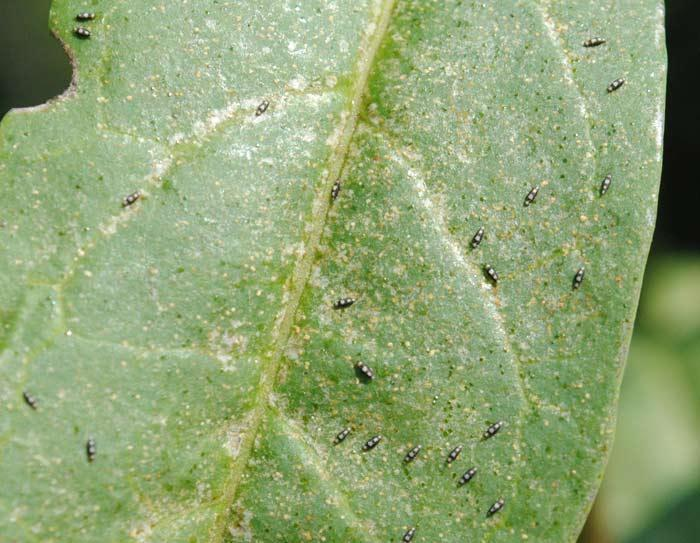tiny_pests: (476, 414, 509, 449), (452, 464, 479, 497), (517, 178, 542, 213), (477, 257, 506, 287), (399, 440, 426, 471), (567, 262, 592, 295), (482, 493, 511, 521), (350, 357, 381, 383), (118, 186, 149, 212), (15, 387, 43, 415), (358, 430, 387, 457), (327, 420, 352, 450), (81, 430, 101, 467), (67, 25, 106, 43), (595, 168, 616, 201), (442, 438, 466, 466), (601, 73, 629, 97), (466, 223, 488, 253), (326, 177, 350, 204), (578, 33, 611, 51), (397, 520, 420, 543), (329, 294, 358, 312), (253, 96, 273, 121), (72, 8, 98, 24)
